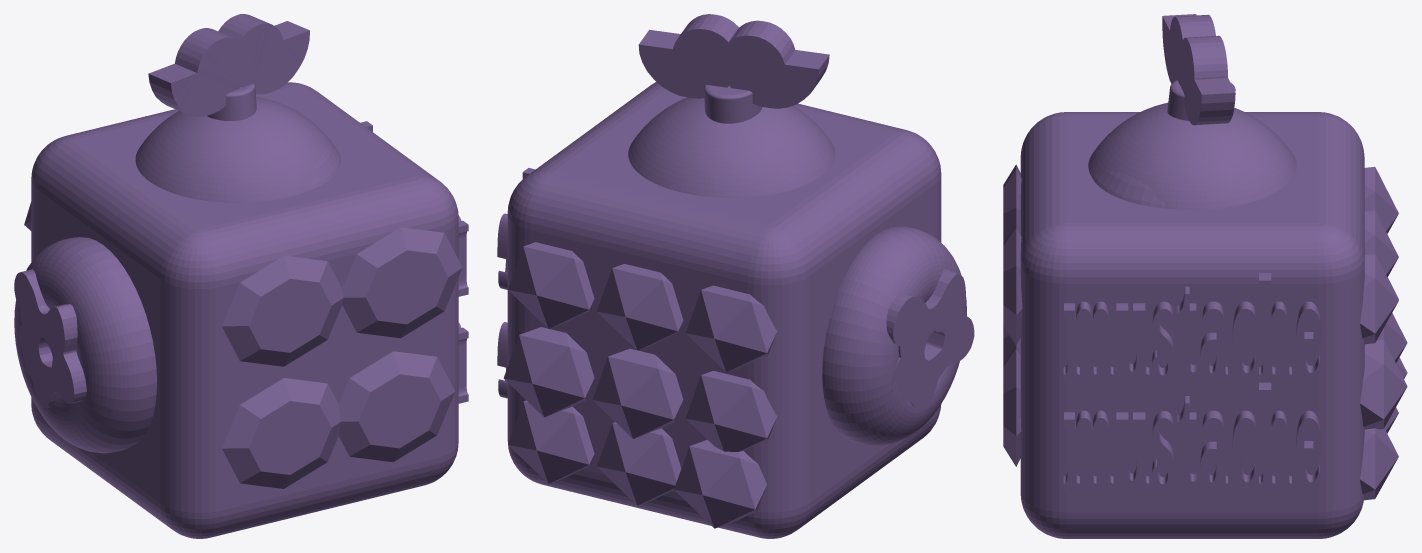
File: x - Kayla Nebula purple.glb
3 views of the same model, side by side, from view 1: azimuth 30°, elevation 25°; view 2: azimuth 150°, elevation 25°; view 3: azimuth 270°, elevation 25° (orthographic). The views are drawn at different scales.
Parts seen in each view (by area): view 1: Mesh_Mesh_head_geo.001_lambert2SG.001; view 2: Mesh_Mesh_head_geo.001_lambert2SG.001; view 3: Mesh_Mesh_head_geo.001_lambert2SG.001.
Boxes of the visible parts, x1,y1,x2,y2 form: Mesh_Mesh_head_geo.001_lambert2SG.001: (14,14,468,538); Mesh_Mesh_head_geo.001_lambert2SG.001: (497,14,974,538); Mesh_Mesh_head_geo.001_lambert2SG.001: (1003,14,1407,538).
Bounding box in the file's own units: 0.0507 × 0.0572 × 0.047.
